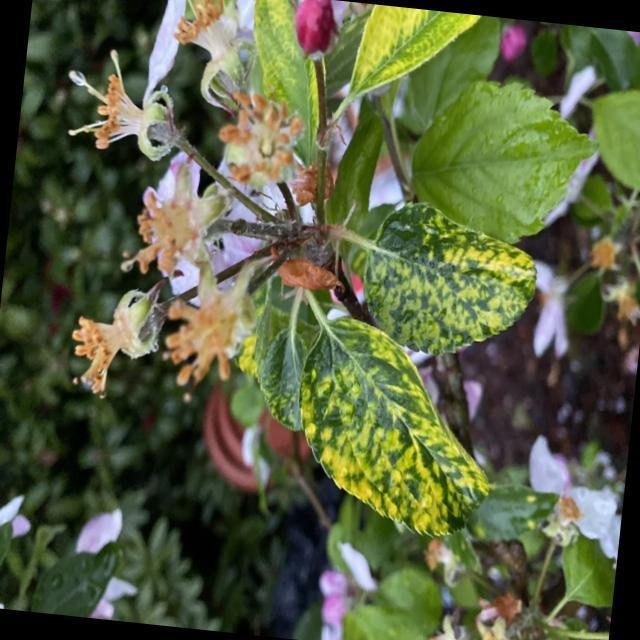Mosaic Virus: (296, 324, 494, 534), (362, 205, 530, 354)
